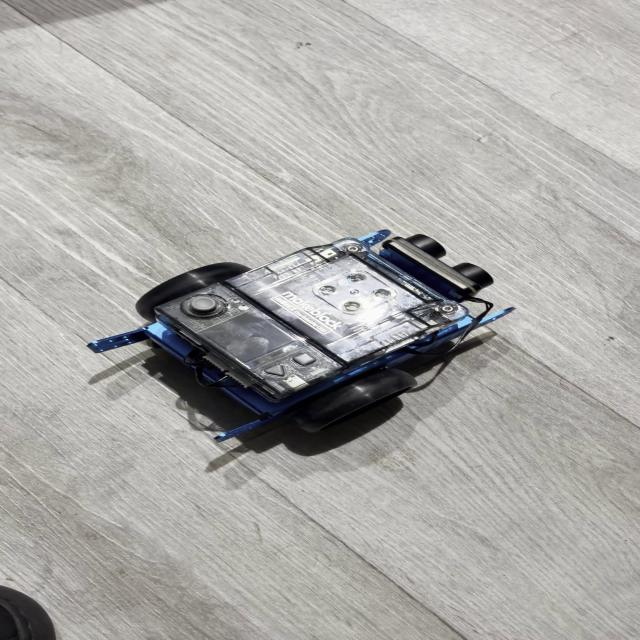mbot-detection: (78, 224, 535, 455)
